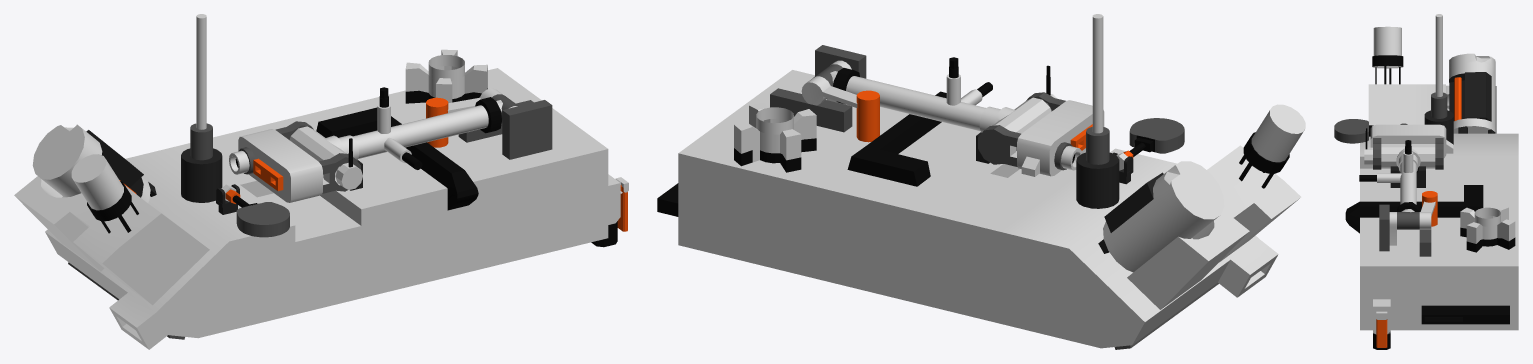
Rendered from Cuerpo_Rover.obj.
3 views of the same model, side by side, from view 1: azimuth 30°, elevation 25°; view 2: azimuth 150°, elevation 25°; view 3: azimuth 270°, elevation 25° (orthographic). The views are drawn at different scales.
Parts seen in each view (by area): view 1: Cuerpo_Rover; view 2: Cuerpo_Rover; view 3: Cuerpo_Rover.
Boxes of the visible parts, box(x1,y1,x2,y2) form: Cuerpo_Rover: box(14, 14, 628, 349); Cuerpo_Rover: box(657, 14, 1305, 349); Cuerpo_Rover: box(1334, 14, 1518, 349).
Bounding box in the file's own units: 10.27 × 5.1 × 4.18.
